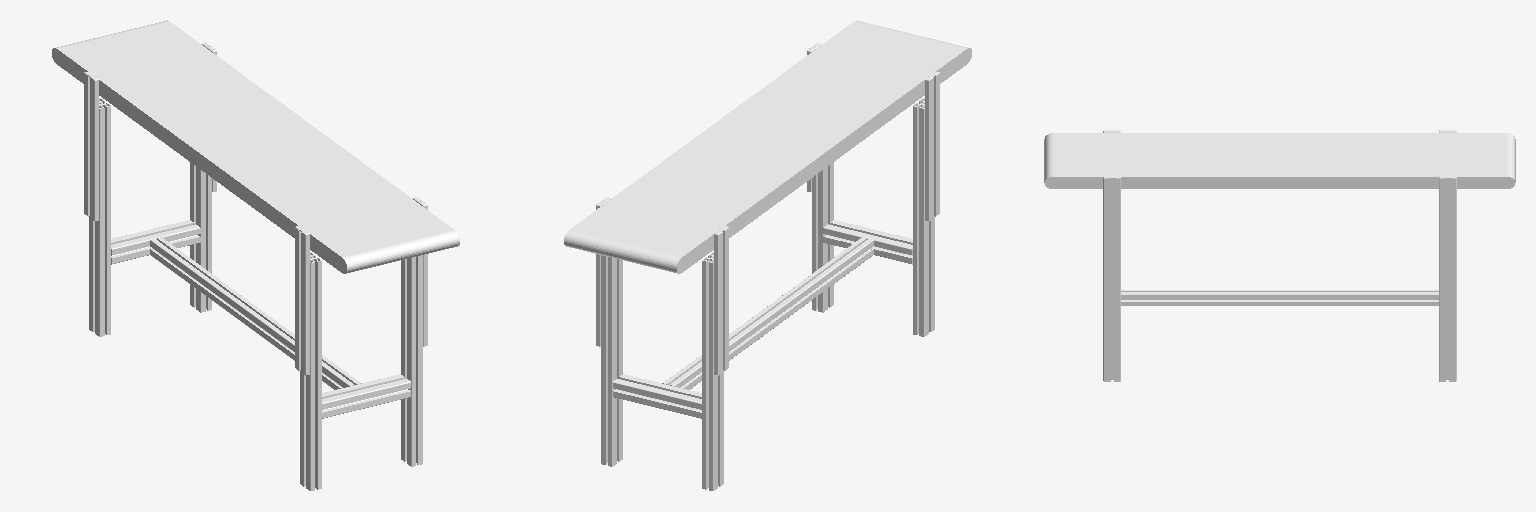
The robot description file, URDF, robot "liukuhihna_gazebo":
<?xml version="1.0" encoding="utf-8"?>
<!-- This URDF was automatically created by SolidWorks to URDF Exporter! Originally created by [author] ([email redacted]) 
     Commit Version: 1.5.1-0-g916b5db  Build Version: 1.5.7152.31018
     For more information, please see http://wiki.ros.org/sw_urdf_exporter -->
<robot name="liukuhihna_gazebo">

	<link name="world" />

	<joint name="fixed" type="fixed">
		<parent link="world"/>
		<child link="belt_visual"/>
		<origin xyz="0.0 1.0 0.0" rpy="0.0 0.0 0"/>
	</joint>
	

	<link name="belt_visual">
		<inertial>
			<origin xyz="1.1327E-16 -3.3286E-17 0.66019" rpy="0 0 0" />
			<mass value="71.953" />
			<inertia ixx="7.5972" ixy="-1.394E-14" ixz="1.9328E-17" iyy="0.99673" iyz="-9.2056E-18" izz="8.1168" />
		</inertial>
		<visual>
			<origin xyz="0 0 0" rpy="0 0 0" />
			<geometry>
				<mesh filename="package://demo_world/meshes/conveyor_belt.stl" />
			</geometry>
			<material name="white">
				<color rgba="1 1 1 1" />
			</material>
		</visual>
		<collision>
			<origin xyz="0.0 0.0 0" rpy="1.570796327 0.0 1.570796327"/>
			<geometry>
				<mesh filename="package://demo_world/meshes/conveyor_simple.stl" />
			</geometry>
		</collision>
	</link>

	<!-- <link name="test_cube">
		<visual>
			<origin xyz="0.0 0.0 0.37" rpy="0.0 0.0 0.0"/>
			<geometry>
				<box size="0.463 1.2 0.74"/>
			</geometry>
			<material name="purple">
				<color rgba="1 0 1 0.2" />
			</material>
		</visual>
	</link> -->

	<joint name="belt_joint" type="prismatic">
		<origin xyz="0.0 0.0 0.74" rpy="0.0 0.0 0.0"/>
		<parent link="belt_visual"/>
		<child link="belt_moving"/>
		<axis xyz="0 1 0"/>
		<limit lower="0.0" upper="1" effort="1000" velocity="1000"/>
	</joint>

	<link name="belt_moving">
		<inertial>
			<origin xyz="0.0 0.0 0.0" rpy="0.0 0.0 0.0"/>
			<mass value="100"/>
			<inertia ixx="0.0" ixy="0.0" ixz="0.0" iyy="0.0" iyz="0.0" izz="0.0"/>
		</inertial>
		<!-- <visual>
			<origin xyz="0.0 0.0 0.0005" rpy="0.0 0.0 0.0"/>
			<geometry>
				<box size="0.425 1.2 0.001"/>
			</geometry>
			<material name="test">
				<color rgba="1 0 1 1" />
			</material>
		</visual> -->
		<collision>
			<origin xyz="0.0 0.0 0.0005" rpy="0.0 0.0 0.0"/>
			<geometry>
				<box size="0.425 1.2 0.001"/>
			</geometry>
		</collision>
	</link>

	<gazebo>
		<plugin name="conveyor_belt_plugin" filename="libROSConveyorBeltPlugin.so">
			<robot_namespace>/</robot_namespace>
			<link>belt_moving</link>
			<power>0</power>
			<max_velocity>1.0</max_velocity>
		</plugin>
	</gazebo>
</robot>

--- Facts derived from the render (not from the file) ---
Views: 3 orthographic renders of the robot side by side, from view 1: azimuth 30°, elevation 25°; view 2: azimuth 150°, elevation 25°; view 3: azimuth 270°, elevation 25°.
Robot: liukuhihna_gazebo — 3 links, 2 joints (1 prismatic, 1 fixed); root link world; default pose: every joint at zero.
Links seen in each view (by area): view 1: belt_visual; view 2: belt_visual; view 3: belt_visual.
Link boxes in pixels (x1,y1,x2,y2): belt_visual: [52, 20, 459, 490]; belt_visual: [564, 20, 971, 490]; belt_visual: [1044, 130, 1515, 381].
Bounding box of the posed robot: 0.3703 × 1.54 × 0.743 m (x, y, z).
1 mesh visuals loaded from 1 distinct referenced files (1 binary STL).
